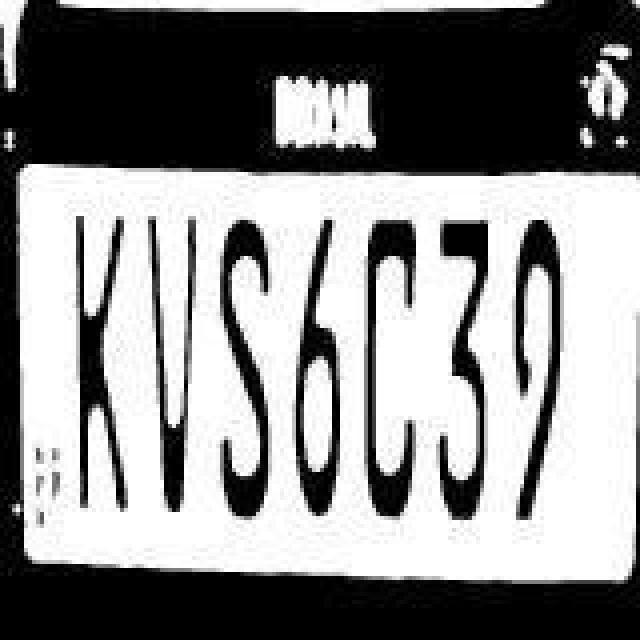3: (424, 216, 488, 520)
6: (288, 212, 344, 508)
9: (500, 210, 564, 526)
C: (354, 214, 430, 514)
K: (68, 208, 140, 504)
S: (212, 218, 284, 518)
V: (144, 212, 208, 500)
